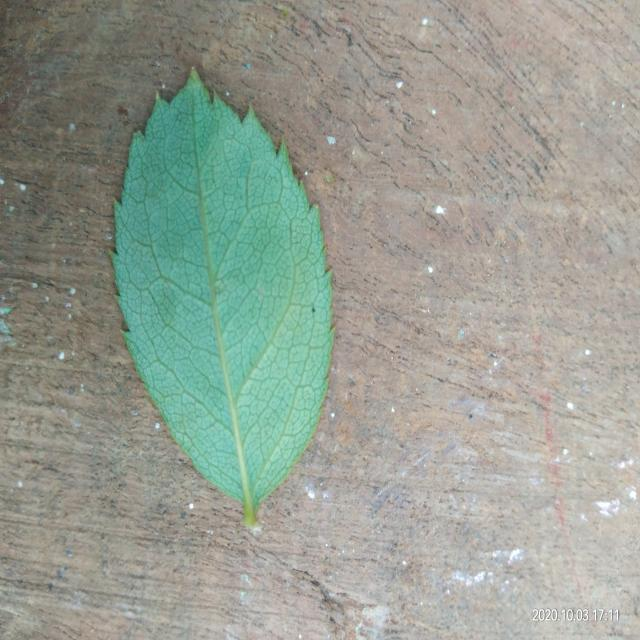rose: (112, 72, 334, 528)
